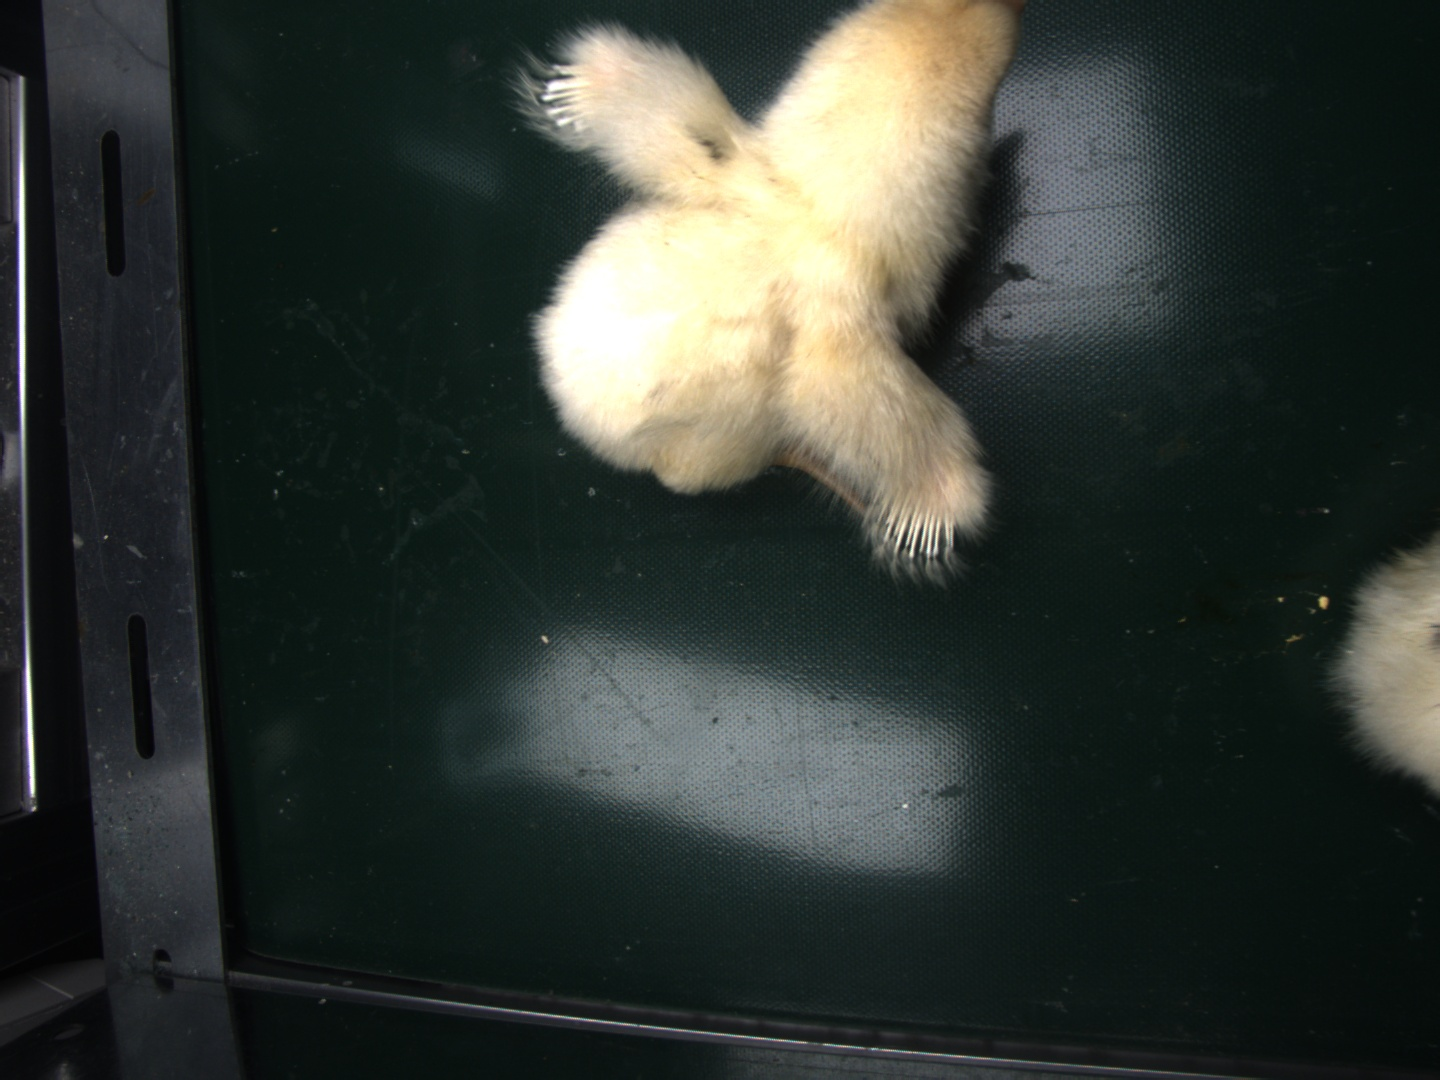male: (878, 492, 956, 557)
